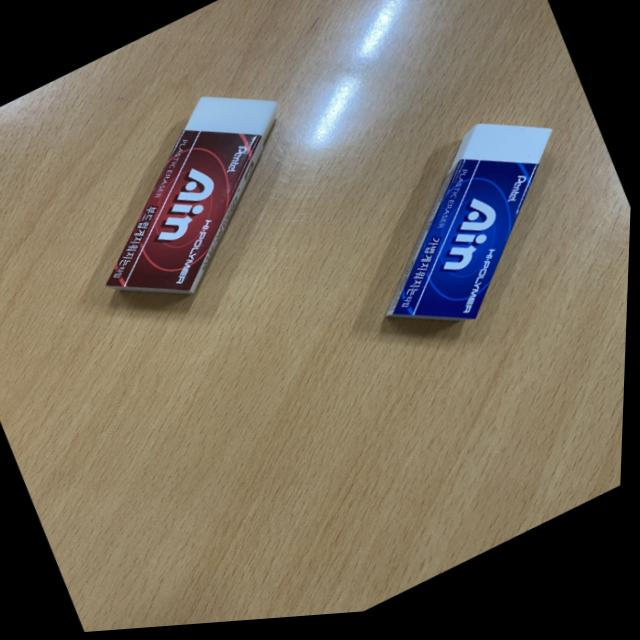blue: (334, 95, 614, 369)
red: (53, 63, 341, 337)
